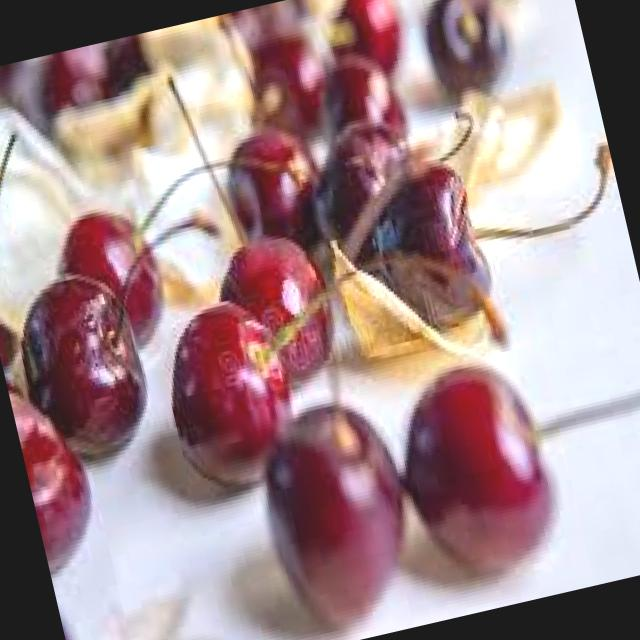organic: (0, 0, 586, 386), (74, 207, 364, 518), (0, 200, 214, 553), (248, 400, 419, 616), (393, 359, 554, 578)
